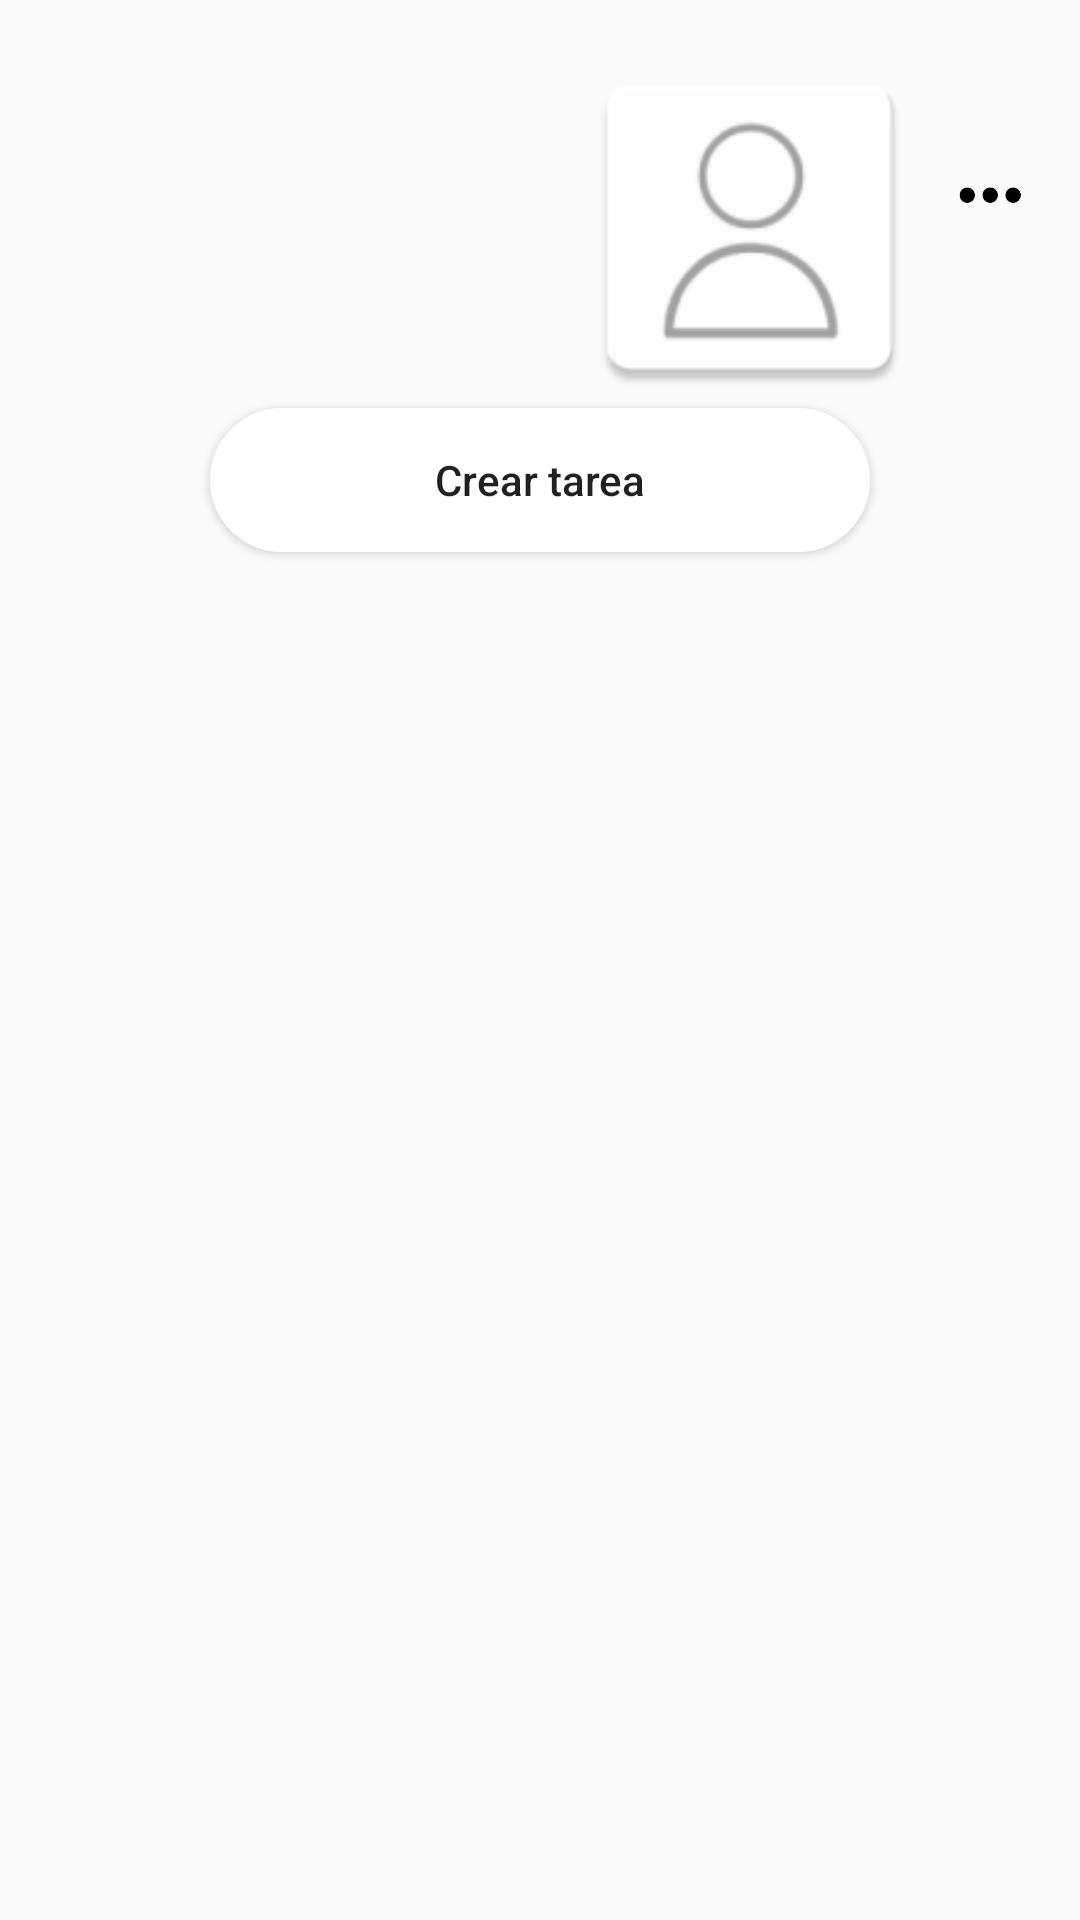

Screen size 1080px×1920px. Icon name, then its box in pixels as (x1, y1, x2, y2):
ellipsis: (959, 187, 1021, 203)
imageuser: (608, 102, 894, 379)
